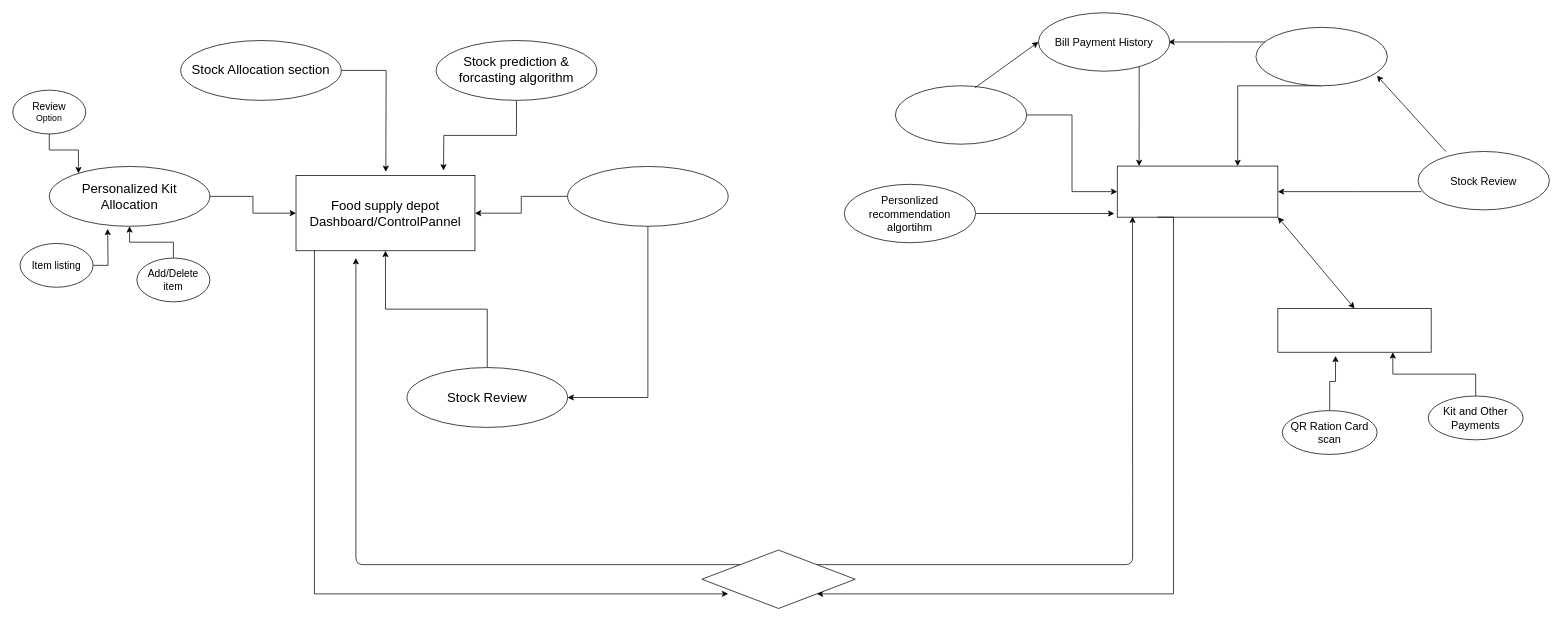
Image size: 1562x621. Some labels were removed from this diagram. The shapes that lost their labels are listed below. From the top down, each one's centre as x and y in pixels, then its label:
At point 1321,56: "Stock Allocation".
At point 961,114: "Personalized Kit Review System".
At point 647,196: "Bill Review".
At point 1197,191: "Ration/Neeti/SupplyCo Dashboard".
At point 1354,330: "Ration/Neeti/SupplyCo Merchant App".
At point 778,578: "Database".
